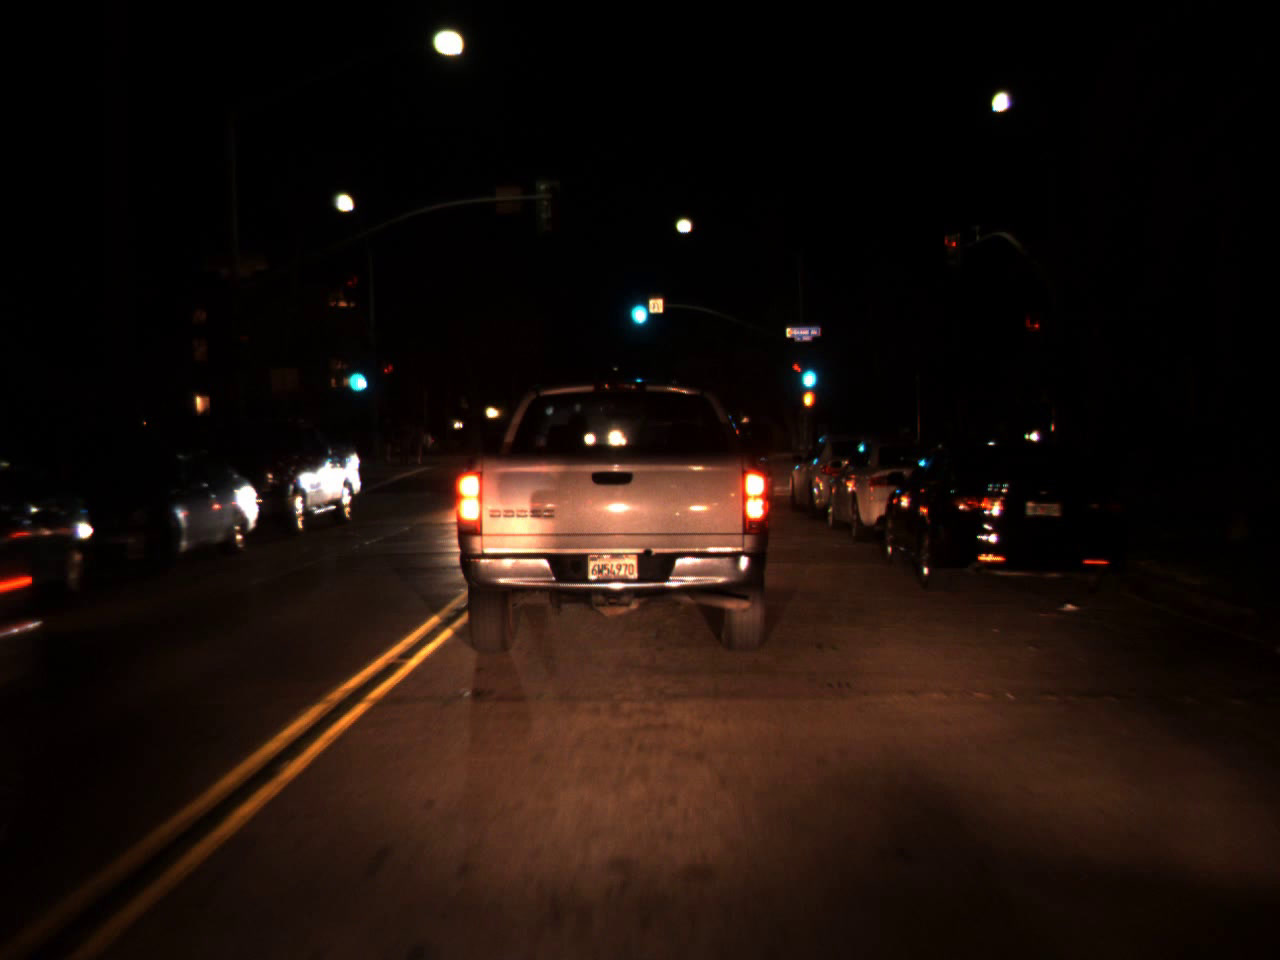go: (625, 280, 650, 331), (343, 350, 368, 398), (796, 349, 819, 394)
